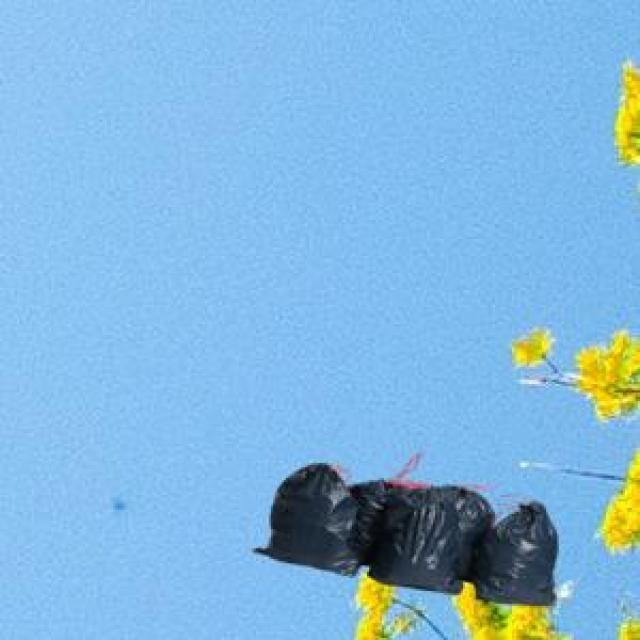miscellaneous trash: (250, 459, 553, 602)
